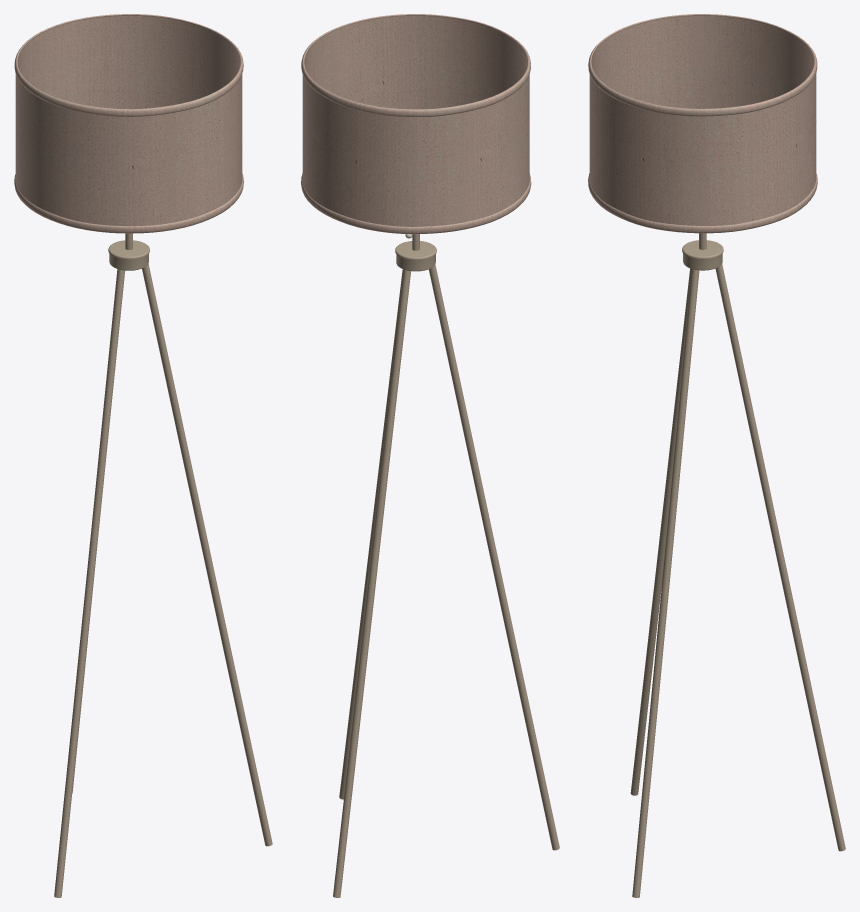
File: abo_B0742GG15D.glb
3 renders of one model, left to right at view 1: azimuth 30°, elevation 25°; view 2: azimuth 150°, elevation 25°; view 3: azimuth 270°, elevation 25°, orthographic.
Visible parts, largest first — view 1: RootNode; view 2: RootNode; view 3: RootNode.
Part boxes in pixels (x1,y1,x2,y2): RootNode: (14, 14, 272, 897); RootNode: (301, 14, 559, 897); RootNode: (588, 14, 845, 897).
Size of the model in its own units: 0.4494 by 1.54 by 0.4601.
Materials: 1 (1 with a texture image).
